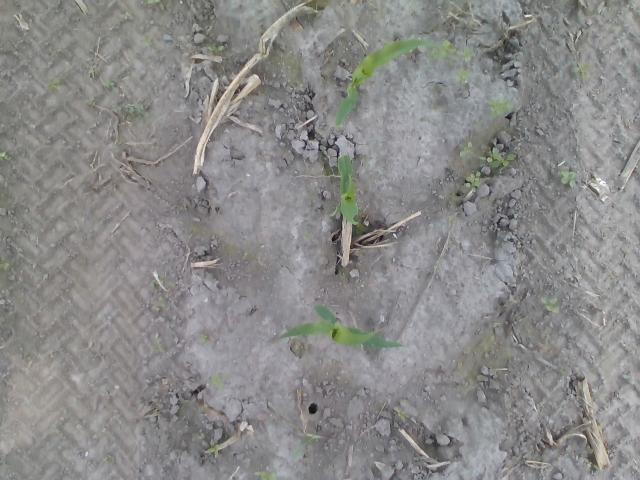Maize: (334, 33, 436, 129), (279, 303, 402, 350), (332, 150, 360, 226)
Weeds: (290, 432, 324, 464), (427, 40, 477, 61), (478, 146, 520, 166), (111, 102, 145, 118), (488, 97, 515, 117), (539, 295, 562, 314), (558, 171, 579, 189), (456, 66, 476, 84), (206, 374, 228, 390), (447, 192, 457, 225), (101, 78, 119, 95), (392, 407, 408, 426), (622, 0, 640, 16), (464, 172, 482, 188), (456, 140, 471, 158), (207, 43, 226, 57), (623, 370, 640, 385), (578, 64, 592, 81), (254, 469, 275, 480), (46, 78, 62, 92), (152, 294, 168, 308), (482, 334, 494, 351), (584, 456, 598, 470), (150, 331, 162, 346), (0, 255, 10, 272), (301, 228, 314, 241), (208, 444, 220, 458), (143, 34, 154, 48), (84, 96, 95, 109), (559, 366, 570, 378), (198, 334, 210, 344), (118, 11, 128, 20), (0, 151, 9, 160), (104, 456, 114, 464), (146, 0, 162, 5)
